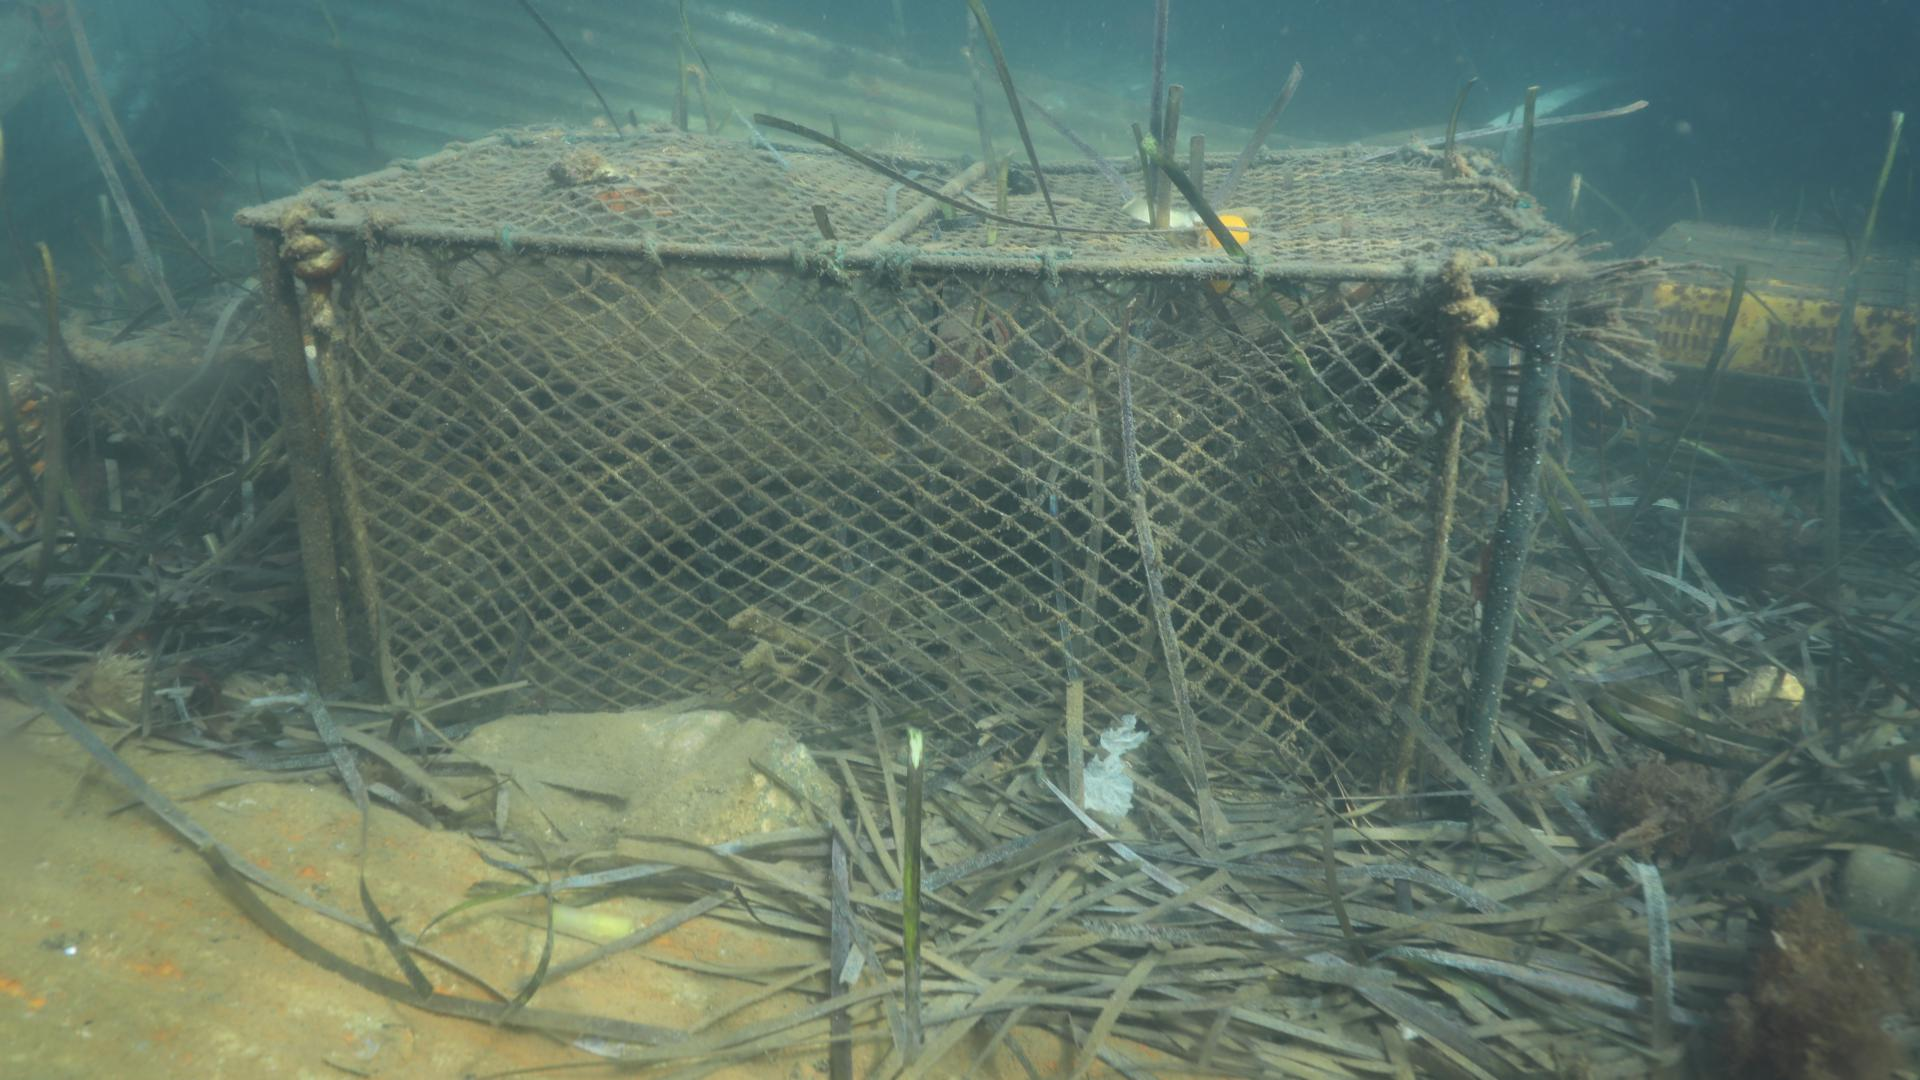rectangular fish trap: (233, 123, 1590, 837)
